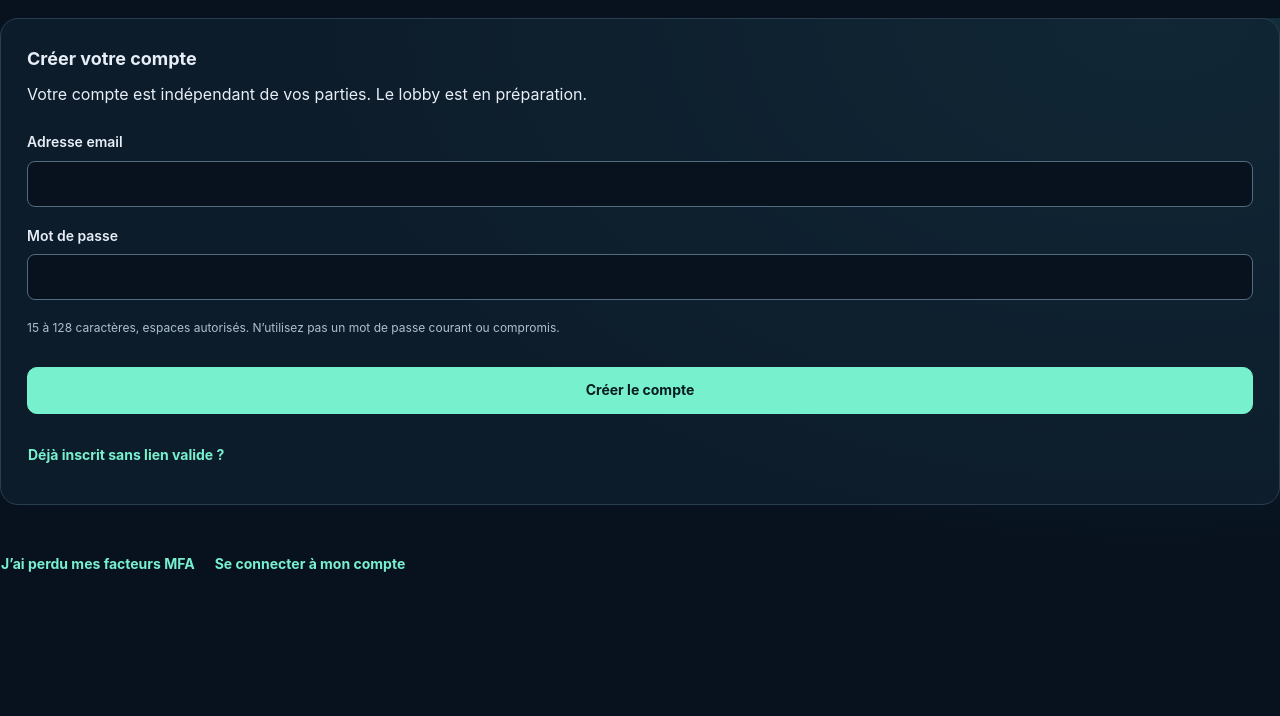
Test: login obtains a bound challenge and never puts secrets in browser storage
Click the button "Se connecter à mon compte" at (319, 564), box [214,541,424,588]
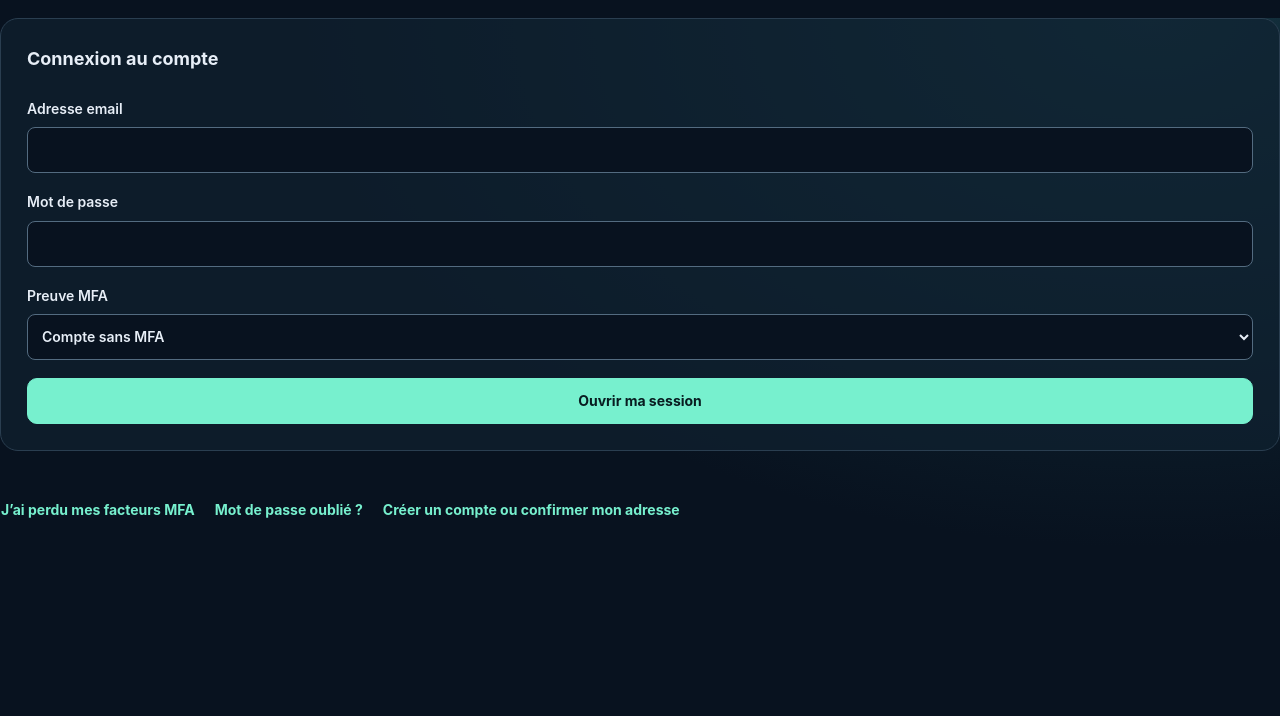
Type "player@example.org" into the field labelled "Adresse email" at (640, 150), box [27,127,1253,173]
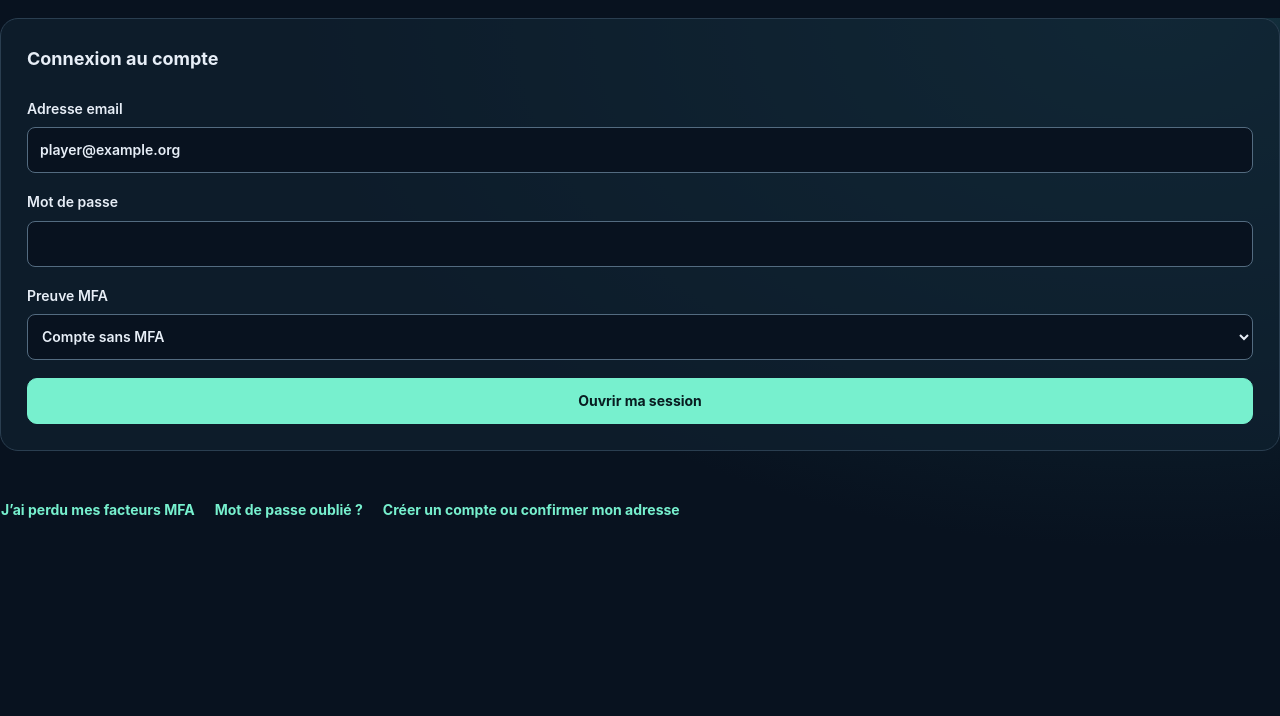
Type "Test password for C03 !" into the password field labelled "Mot de passe" at (640, 244), box [27,221,1253,267]
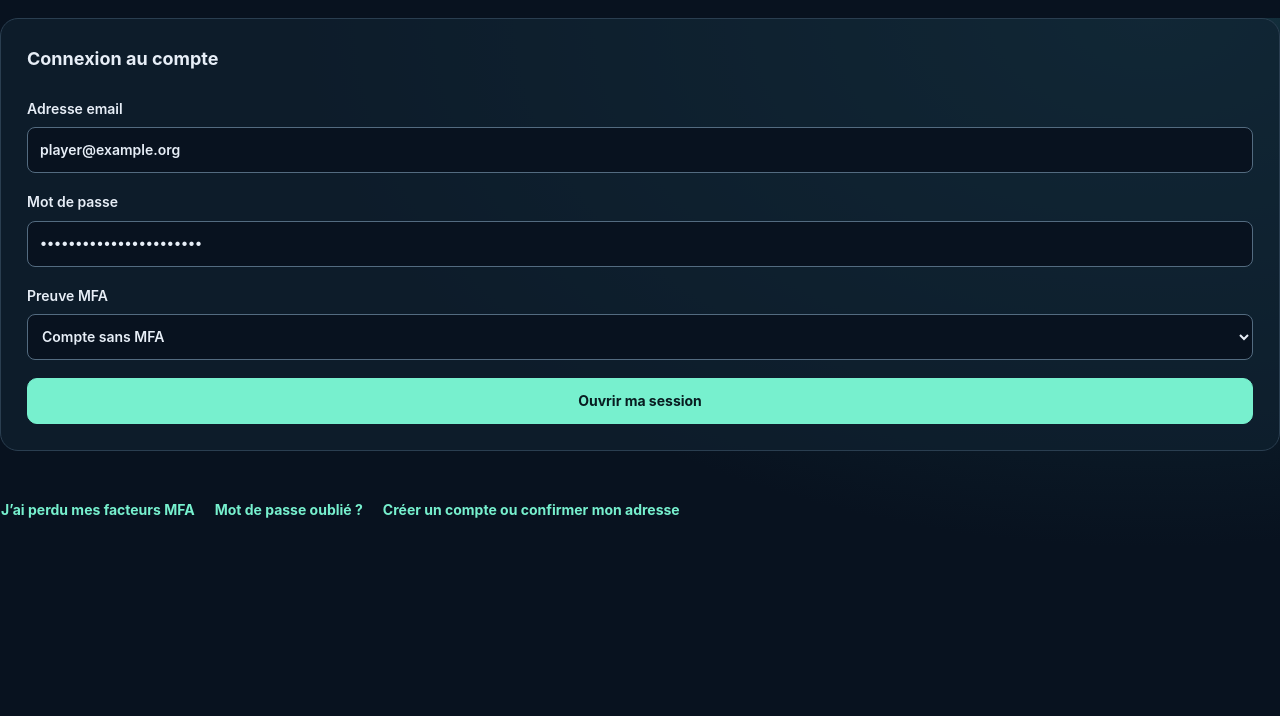
Click the button "Ouvrir ma session" at (640, 401), box [27,378,1253,424]
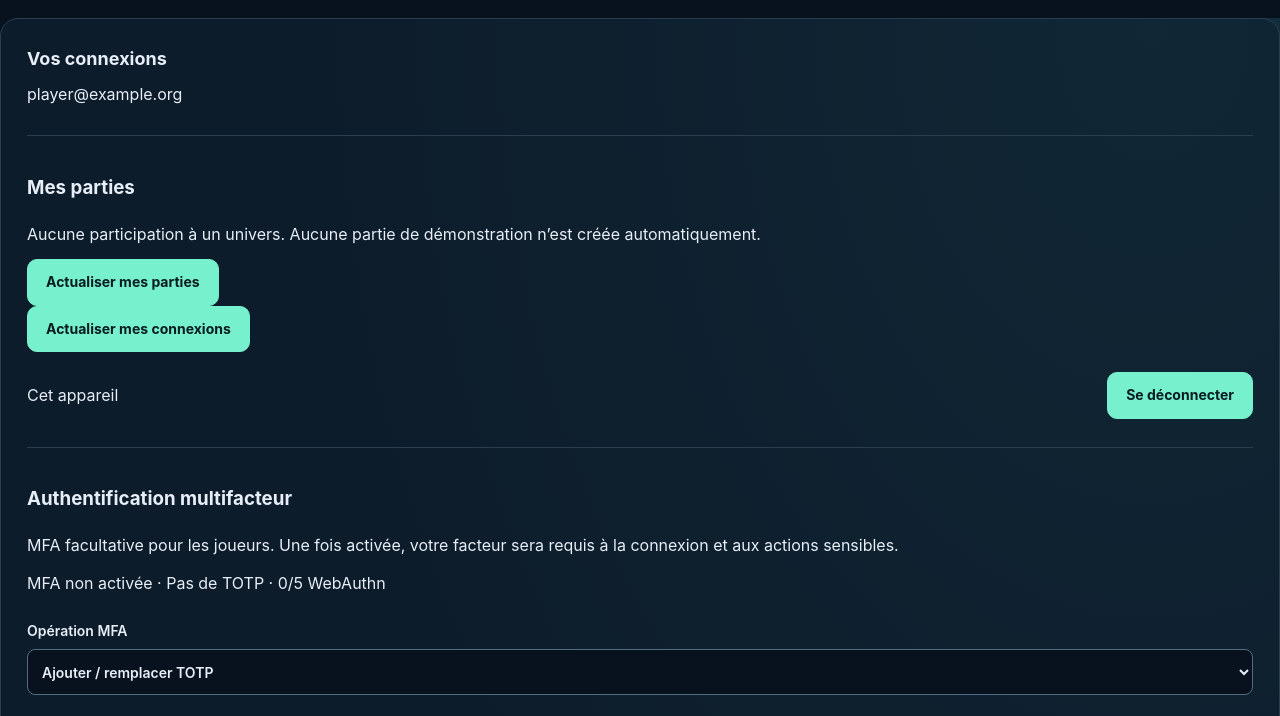
Expected: the text "player@example.org" is shown, [27,84,182,104]
